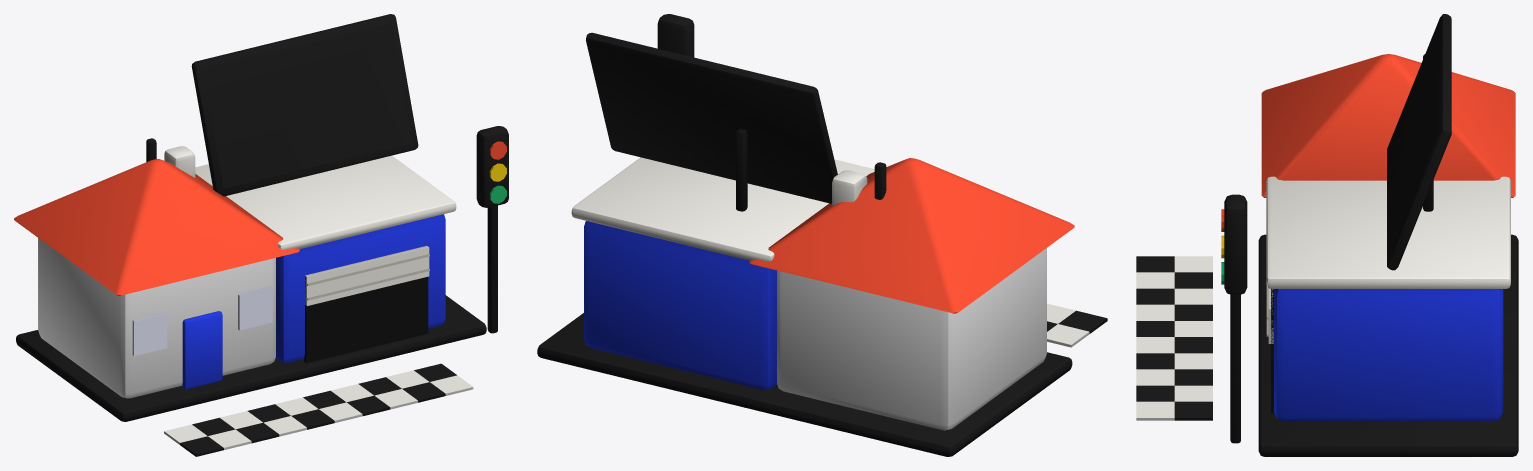
File: start.glb
3 views of the same model, side by side, from view 1: azimuth 30°, elevation 25°; view 2: azimuth 150°, elevation 25°; view 3: azimuth 270°, elevation 25° (orthographic). The views are drawn at different scales.
Parts seen in each view (by area): view 1: start, screen; view 2: start; view 3: start, screen.
Boxes of the visible parts, left/top/right/bottom form: start: left=14, top=14, right=508, bottom=456; screen: left=203, top=23, right=412, bottom=188; start: left=537, top=14, right=1107, bottom=456; start: left=1136, top=14, right=1518, bottom=456; screen: left=1388, top=23, right=1438, bottom=256.
Bounding box in the file's own units: 6.81 × 4.62 × 5.
